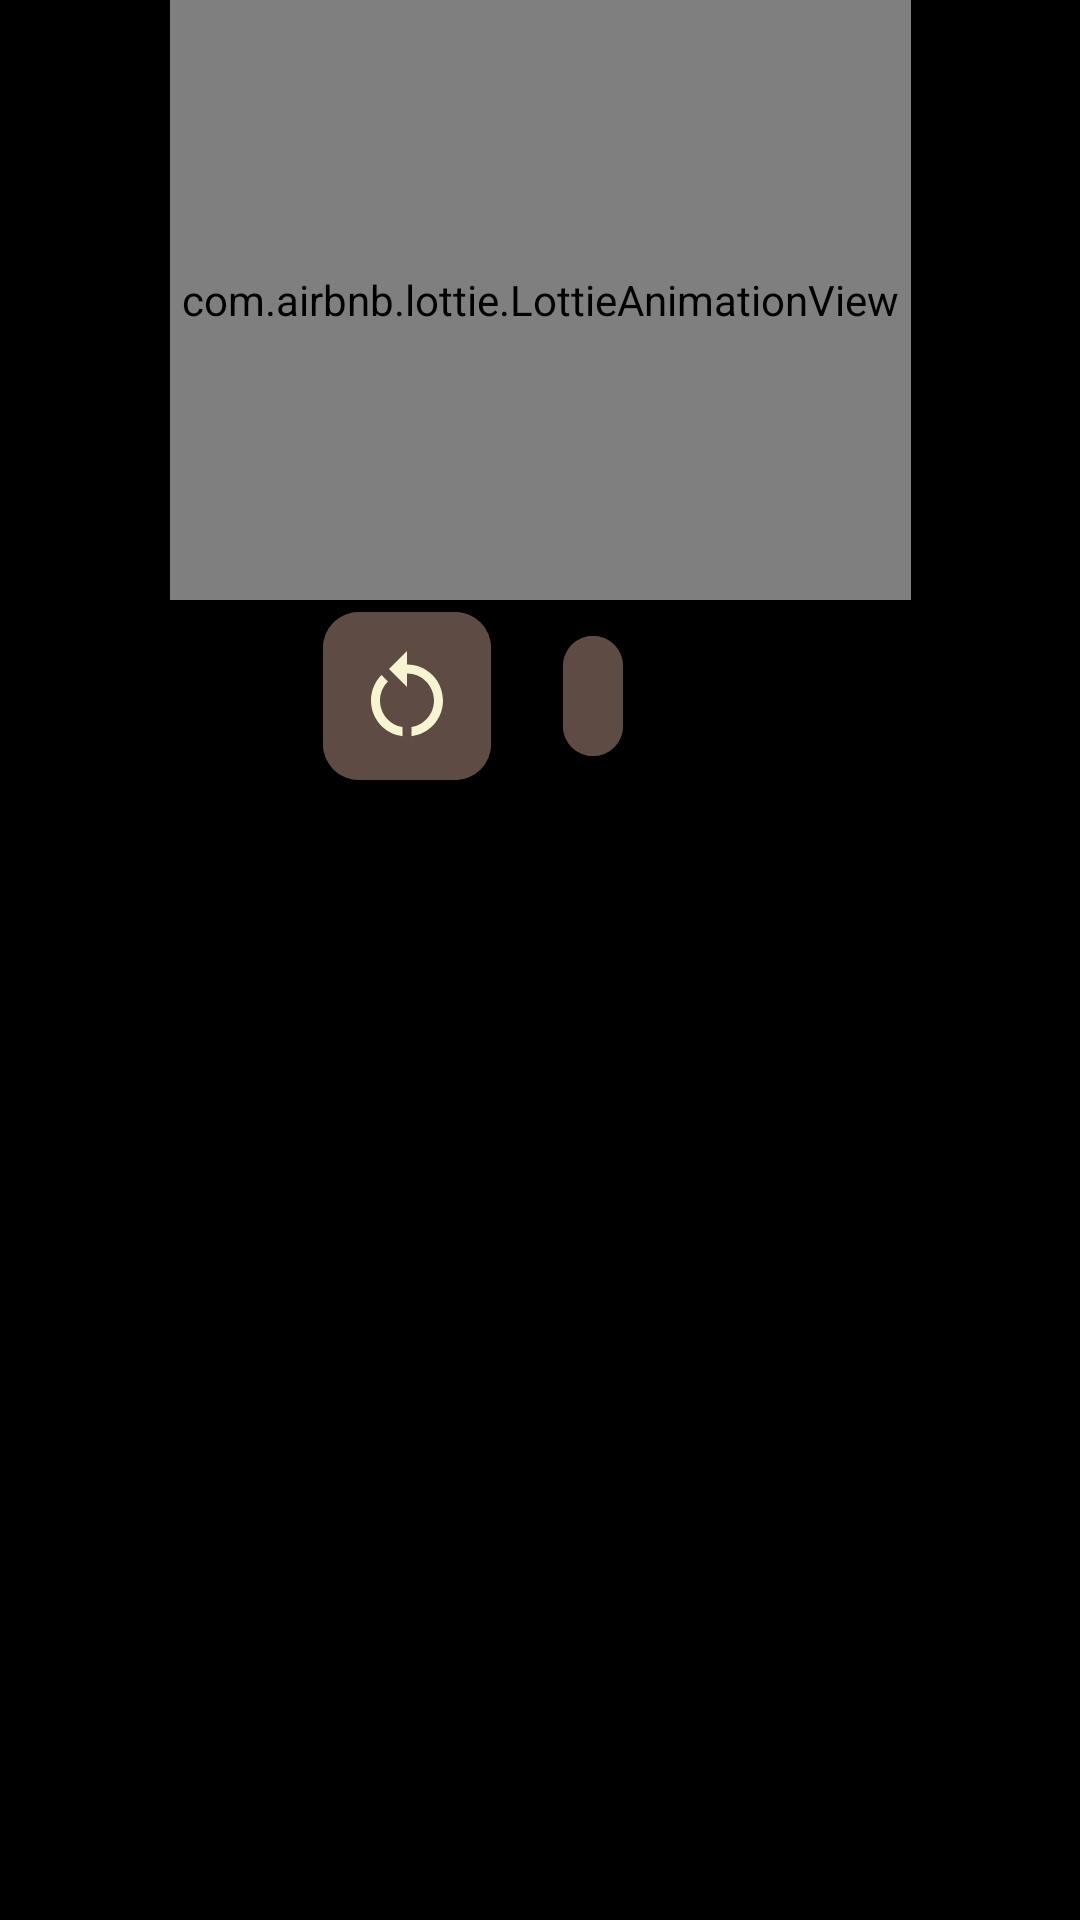

Named icons in this screenshot (1080x1920) and their centers, [x,y]:
restart: [407,696]
